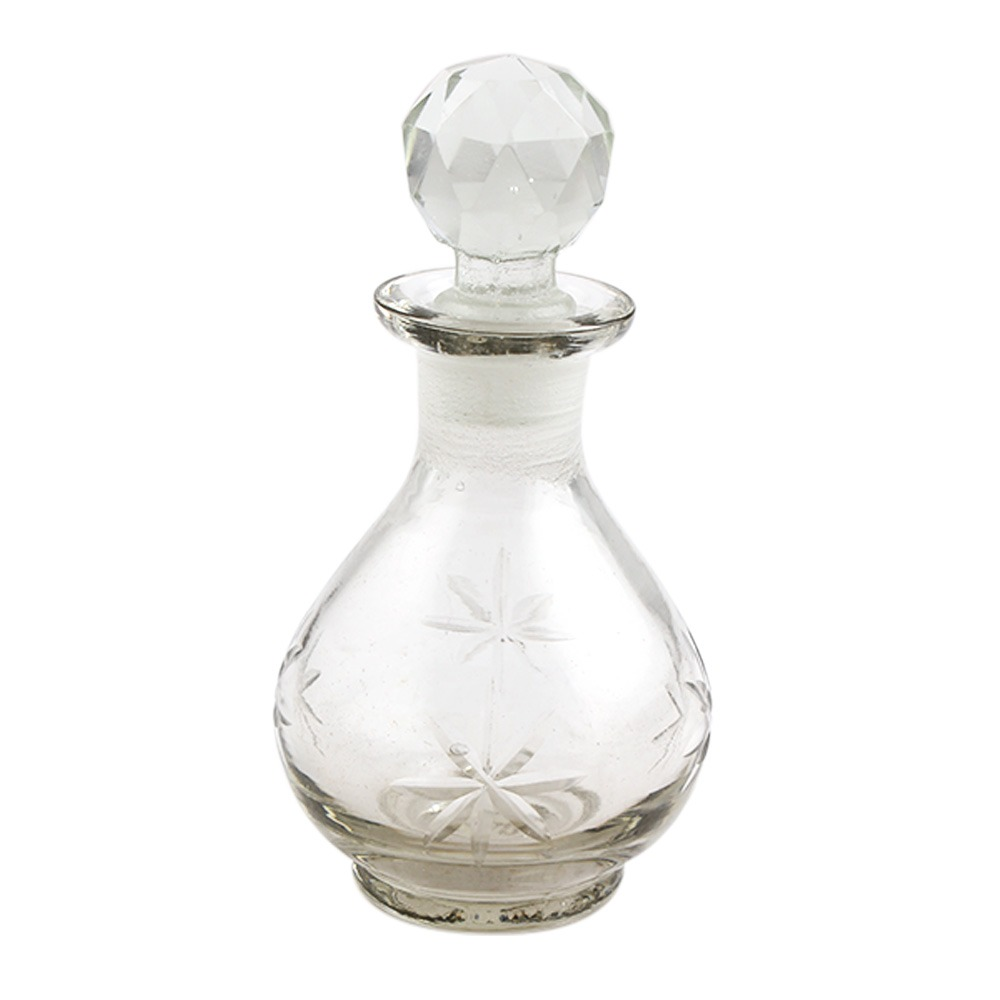container: (268, 47, 710, 929)
